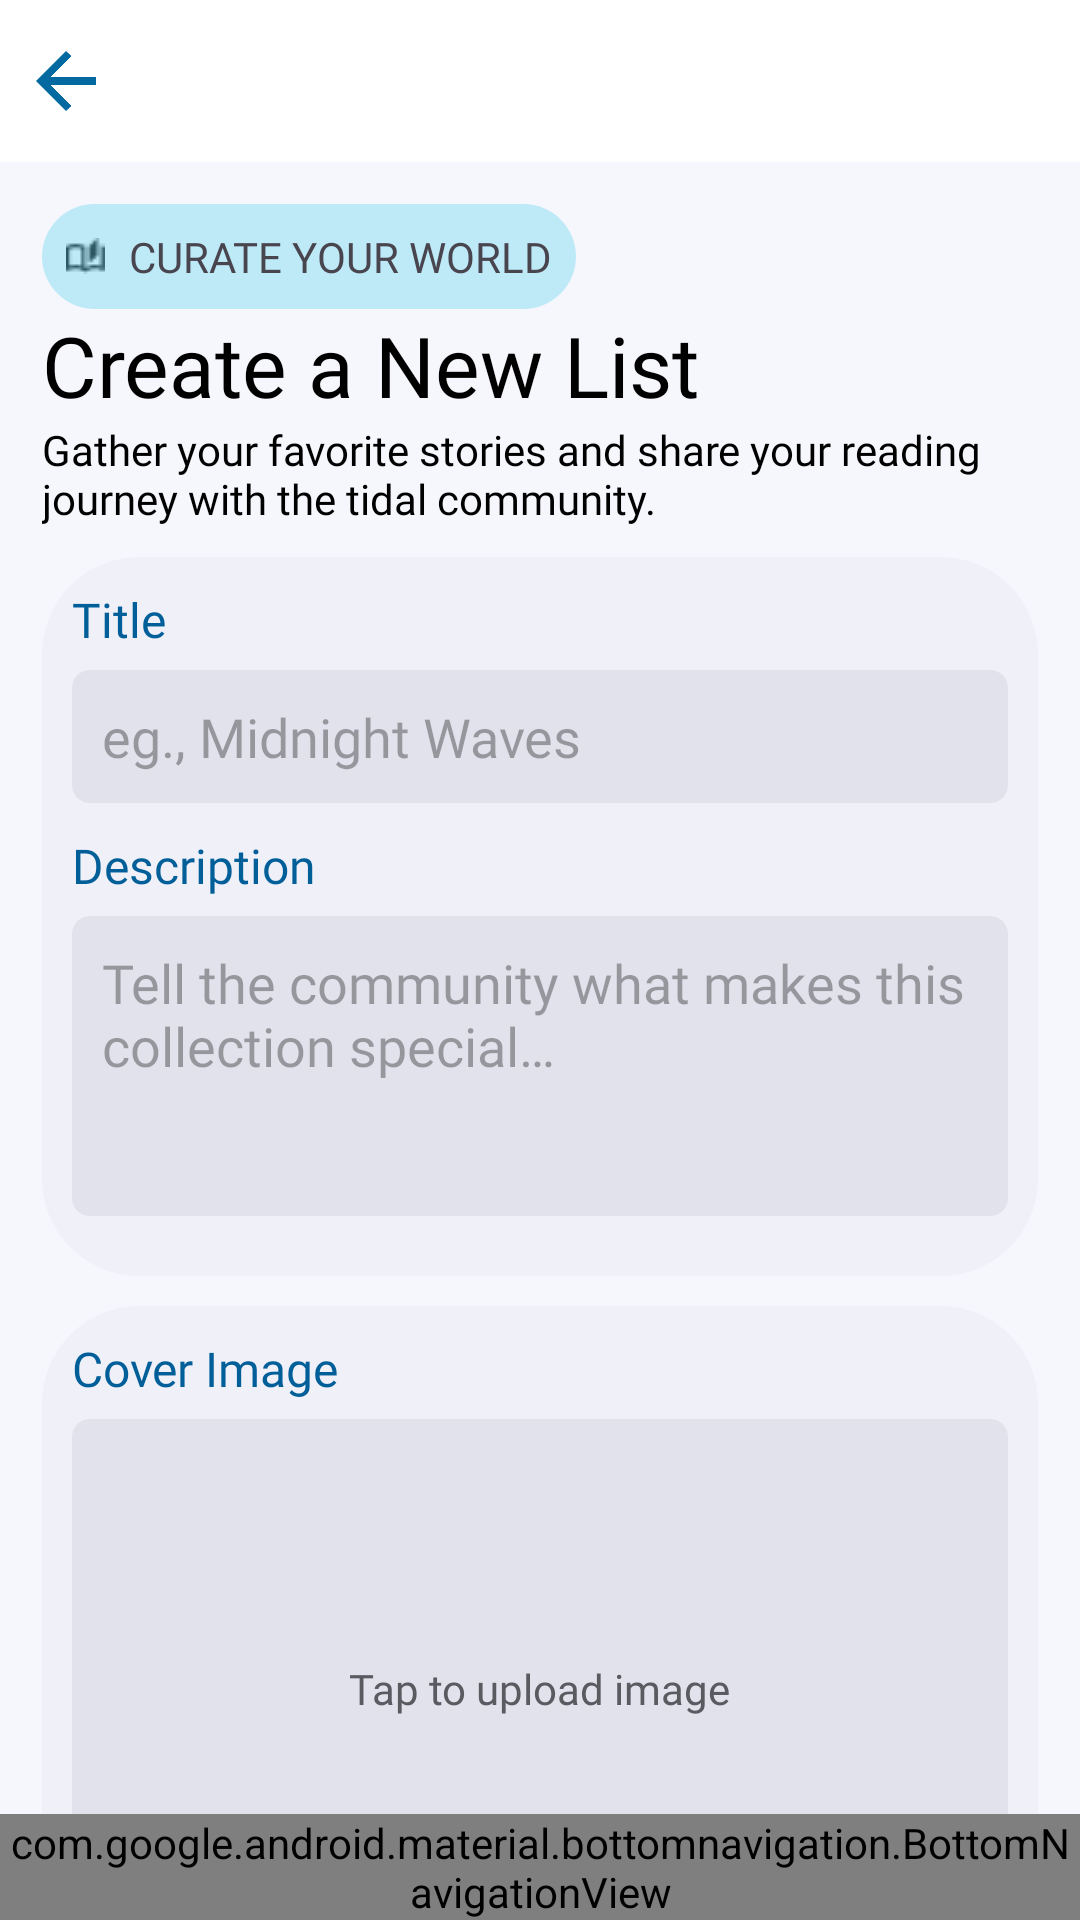

Named icons in this screenshot (1080px x 1920px) and their centers, (x,y):
Back: (66,81)
